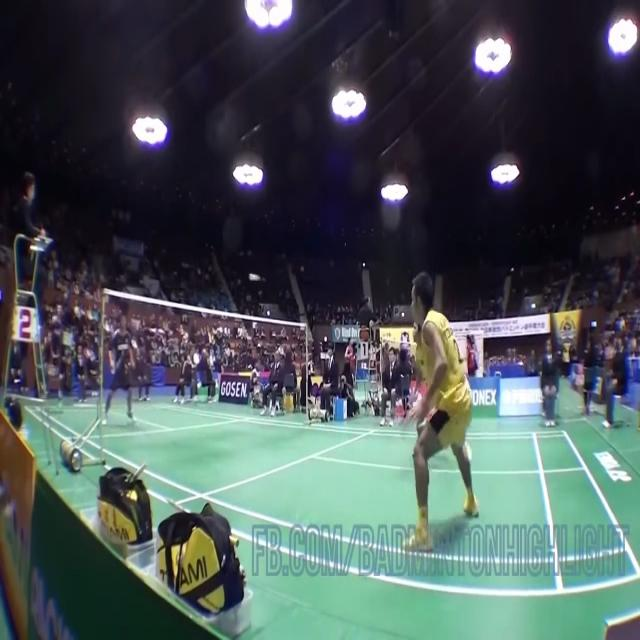shuttlecock: (248, 273, 261, 282)
